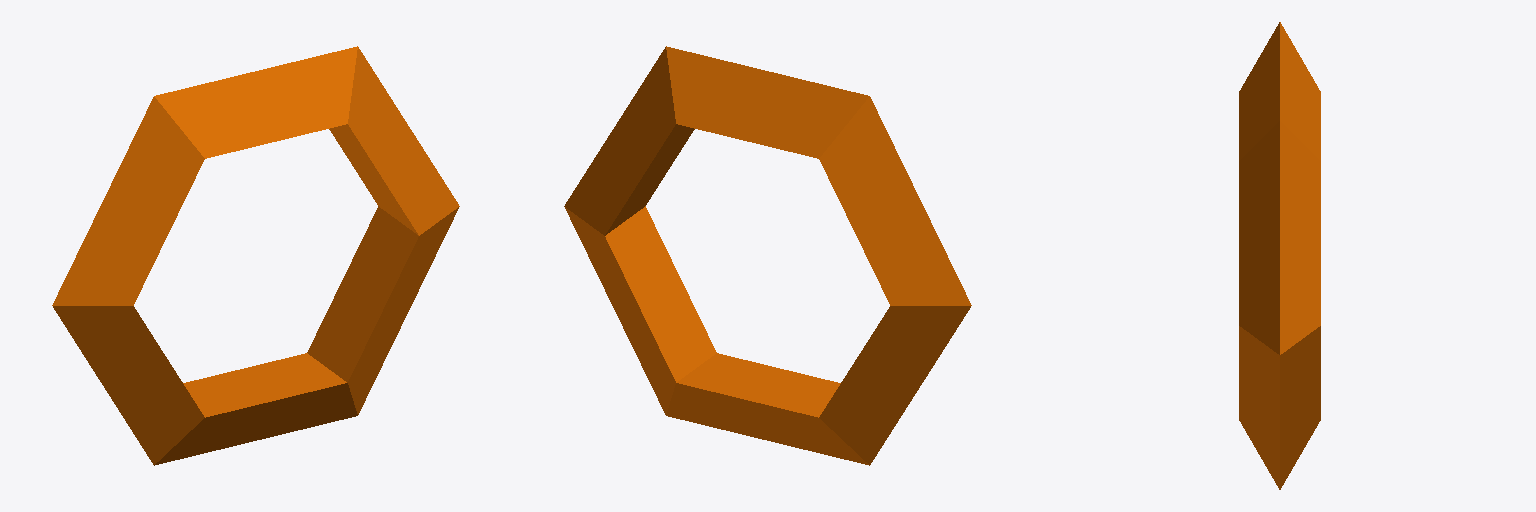
Rendered from Aros.obj.
3 views of the same model, side by side, from view 1: azimuth 30°, elevation 25°; view 2: azimuth 150°, elevation 25°; view 3: azimuth 270°, elevation 25° (orthographic).
Visible parts, largest first — view 1: Aros; view 2: Aros; view 3: Aros.
Part boxes in pixels (bbox=[...]): Aros: bbox=[52, 46, 459, 465]; Aros: bbox=[564, 46, 971, 465]; Aros: bbox=[1239, 22, 1320, 489].
Size of the model in its own units: 4.51 by 3.9 by 0.7806.